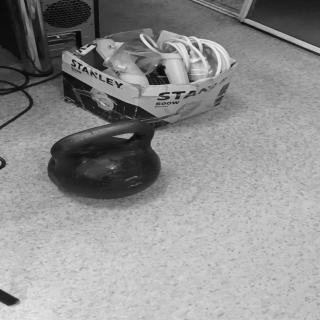kettlebell: (49, 121, 162, 201)
